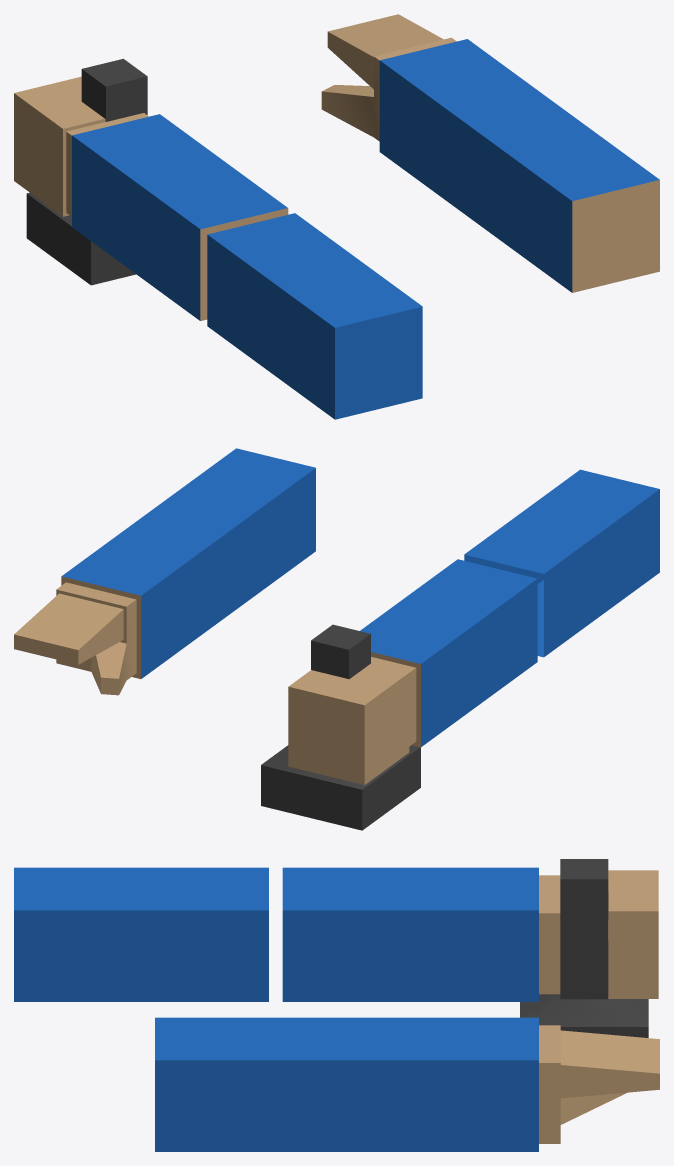
The model's file is Hands.fbx.
The picture shows the model from 3 angles, top to bottom: view 1: azimuth 30°, elevation 25°; view 2: azimuth 150°, elevation 25°; view 3: azimuth 270°, elevation 25°; orthographic projection. The views are drawn at different scales.
Parts seen in each view (by area): view 1: Right, LEFT, Cube_2, Cube; view 2: Right, LEFT, Cube_2, Cube; view 3: Right, LEFT, Cube_2, Cube.
Boxes of the visible parts, left/top/right/bottom form: Right: left=321, top=14, right=659, bottom=292; LEFT: left=14, top=76, right=288, bottom=320; Cube_2: left=207, top=213, right=422, bottom=419; Cube: left=26, top=58, right=147, bottom=285; Right: left=14, top=448, right=315, bottom=695; LEFT: left=288, top=559, right=537, bottom=784; Cube_2: left=464, top=469, right=659, bottom=657; Cube: left=261, top=624, right=420, bottom=830; Right: left=155, top=1017, right=659, bottom=1151; LEFT: left=282, top=867, right=658, bottom=1001; Cube_2: left=14, top=867, right=268, bottom=1001; Cube: left=520, top=859, right=648, bottom=1037.
Size of the model in its own units: 442 by 187 by 626.
